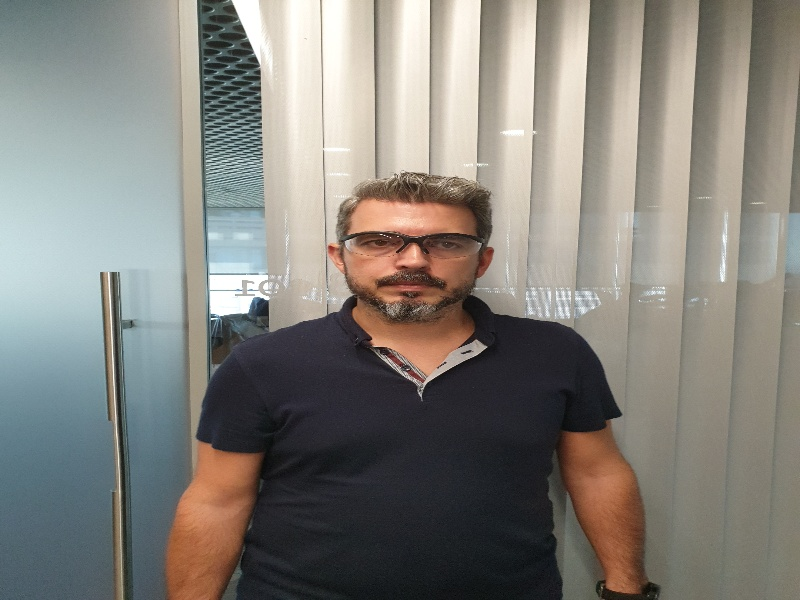Gozluk: (339, 231, 484, 258)
